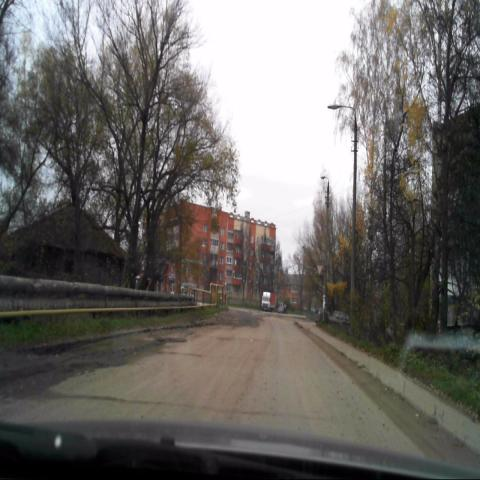2_4: (315, 264, 324, 278)
